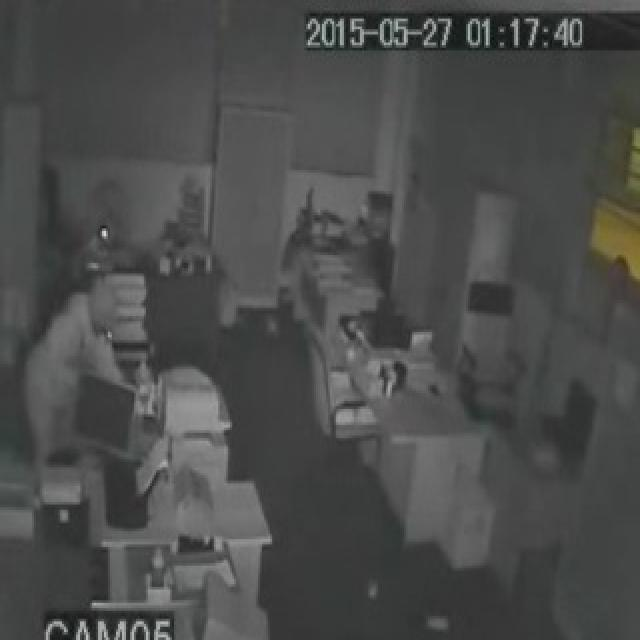thief: (57, 262, 130, 362)
